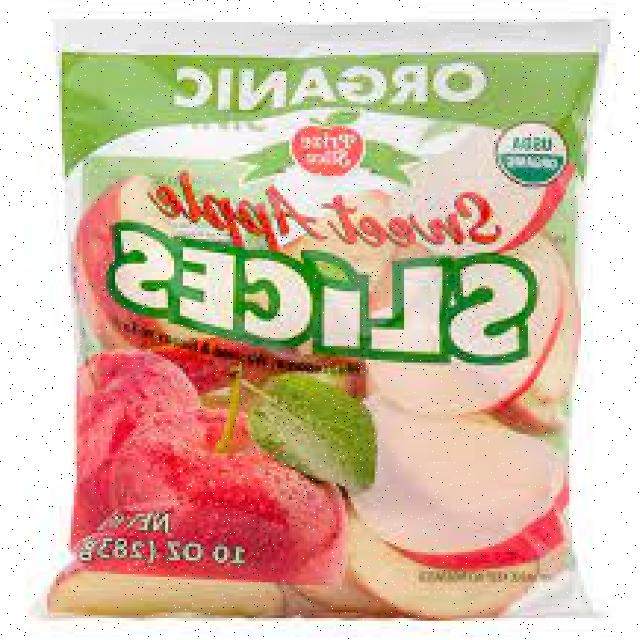Apple: (105, 397, 339, 571), (361, 263, 566, 419), (338, 438, 559, 564), (51, 565, 286, 617), (349, 572, 538, 618)
